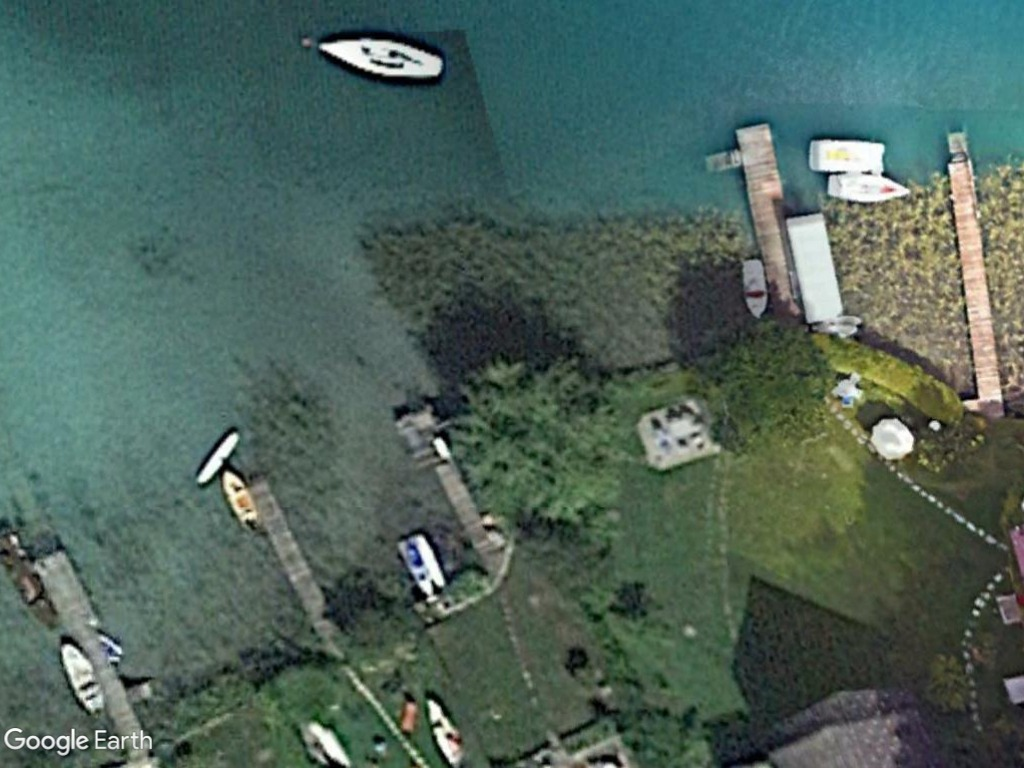boat: (312, 34, 449, 84), (57, 638, 109, 717), (822, 171, 915, 208), (218, 466, 261, 531), (738, 252, 772, 322)
